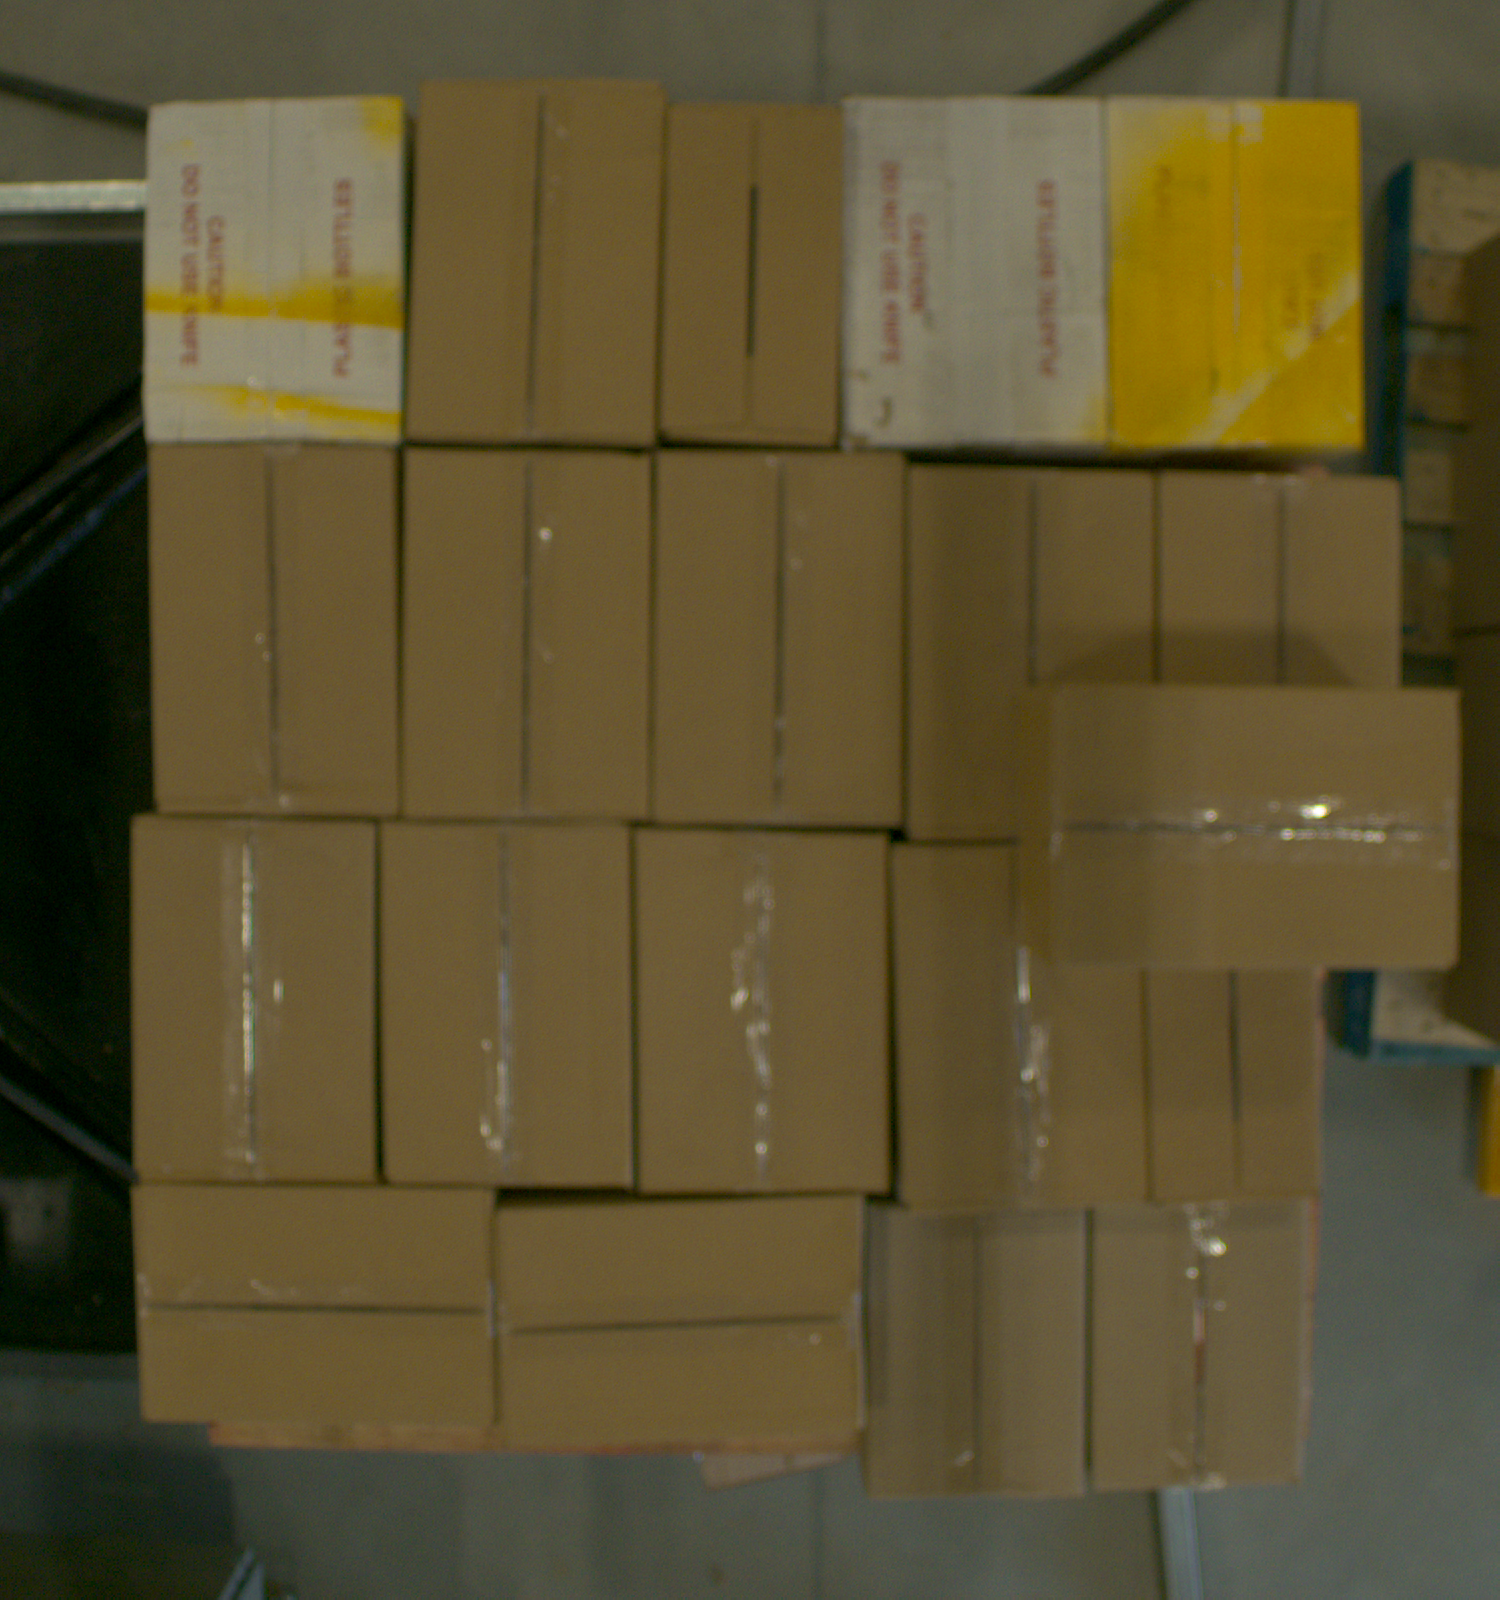box top: (1049, 688, 1463, 968), (651, 454, 905, 826), (410, 78, 664, 443), (892, 849, 1148, 1207), (142, 97, 405, 445), (844, 99, 1105, 448), (403, 450, 651, 815), (908, 469, 1152, 840), (639, 836, 891, 1194), (154, 451, 399, 816), (1109, 97, 1363, 450), (500, 1200, 861, 1446), (381, 827, 629, 1186), (134, 823, 376, 1183), (133, 1188, 495, 1427), (864, 1207, 1088, 1501), (660, 101, 846, 445), (1095, 1207, 1305, 1489), (1160, 476, 1401, 688), (1150, 970, 1325, 1198)
